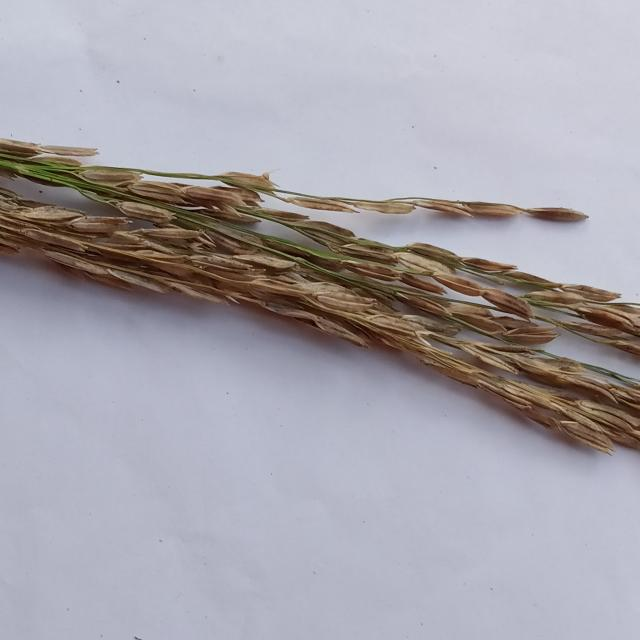Neck_Blast: (0, 199, 640, 461), (8, 149, 637, 356)
